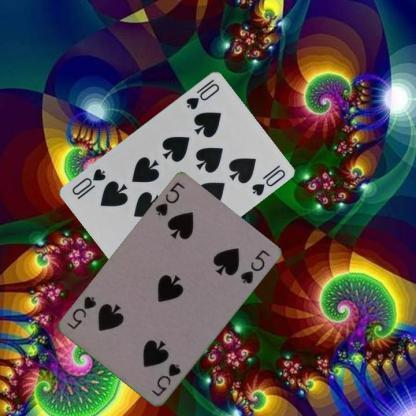10s: (182, 76, 222, 111)
5s: (152, 180, 186, 218), (149, 361, 182, 398)
